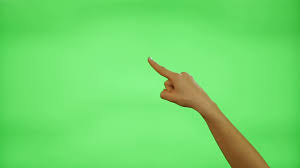hand: (140, 45, 220, 121)
